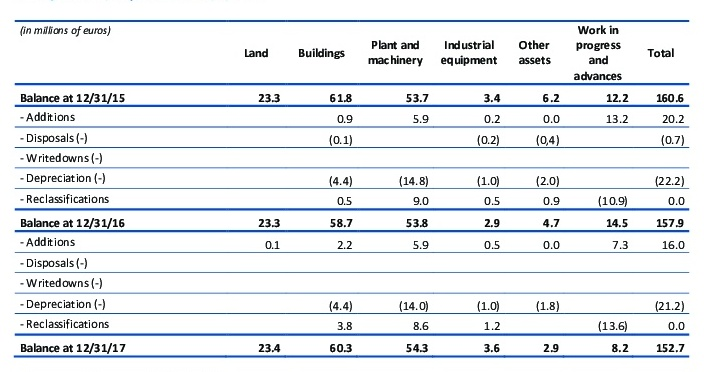table: (0, 0, 704, 372)
